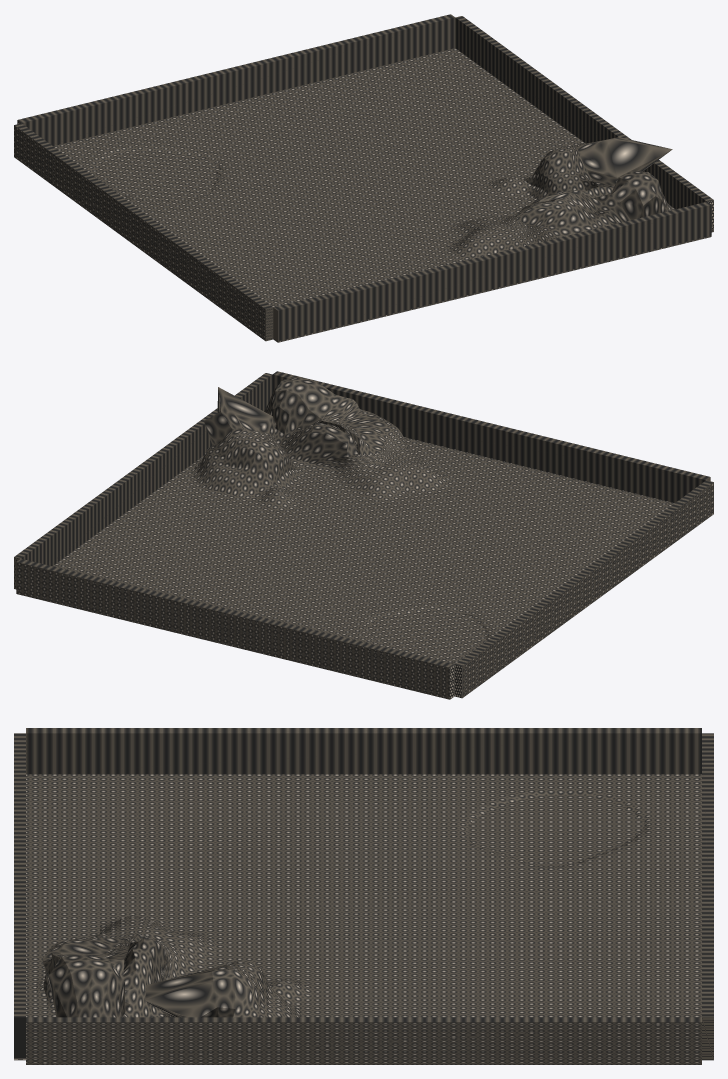
File: newMap.gltf
3 renders of one model, top to bottom at view 1: azimuth 30°, elevation 25°; view 2: azimuth 150°, elevation 25°; view 3: azimuth 270°, elevation 25°, orthographic. The views are drawn at different scales.
Parts seen in each view (by area): view 1: Cube; view 2: Cube; view 3: Cube.
Boxes of the visible parts, box(x1,y1,x2,y2) form: Cube: box(14, 14, 713, 342); Cube: box(14, 371, 713, 699); Cube: box(14, 728, 713, 1064).
Bounding box in the file's own units: 1500 × 200 × 1500.
1 material, 1 textured.
